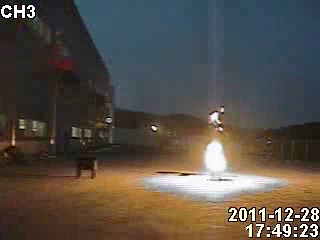fire: (195, 136, 237, 177)
